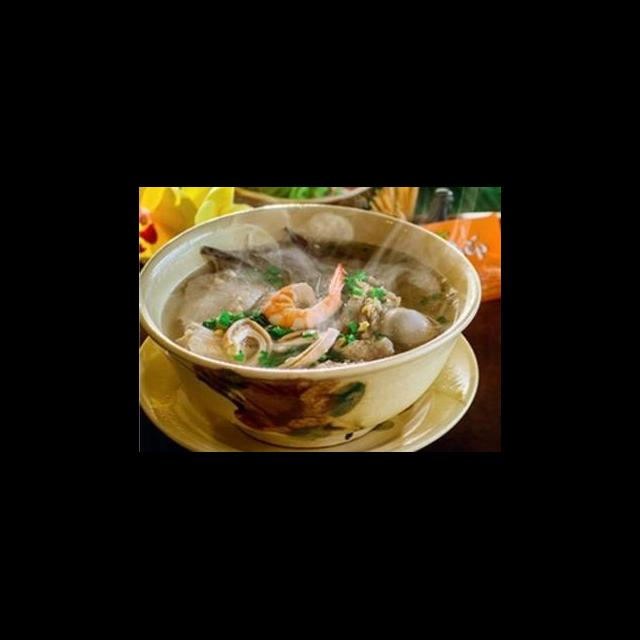thit heo: (175, 264, 281, 329)
tom: (257, 258, 351, 334)
